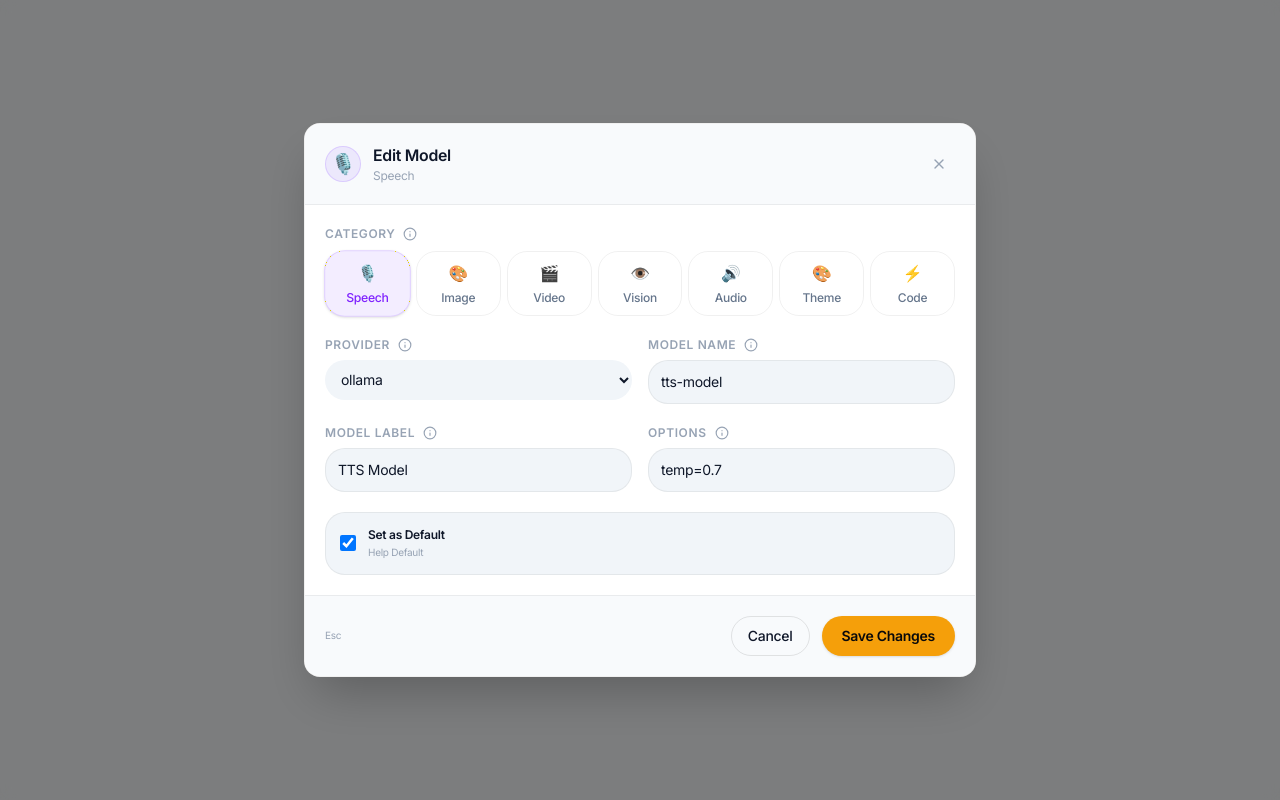
ModelDialog › shows tooltip text on hover
Expected: the text "Help Category" is not shown
// Trigger hover
Hover over the button named "Help" next to "Category" at [410, 234], box [402,225,420,243]
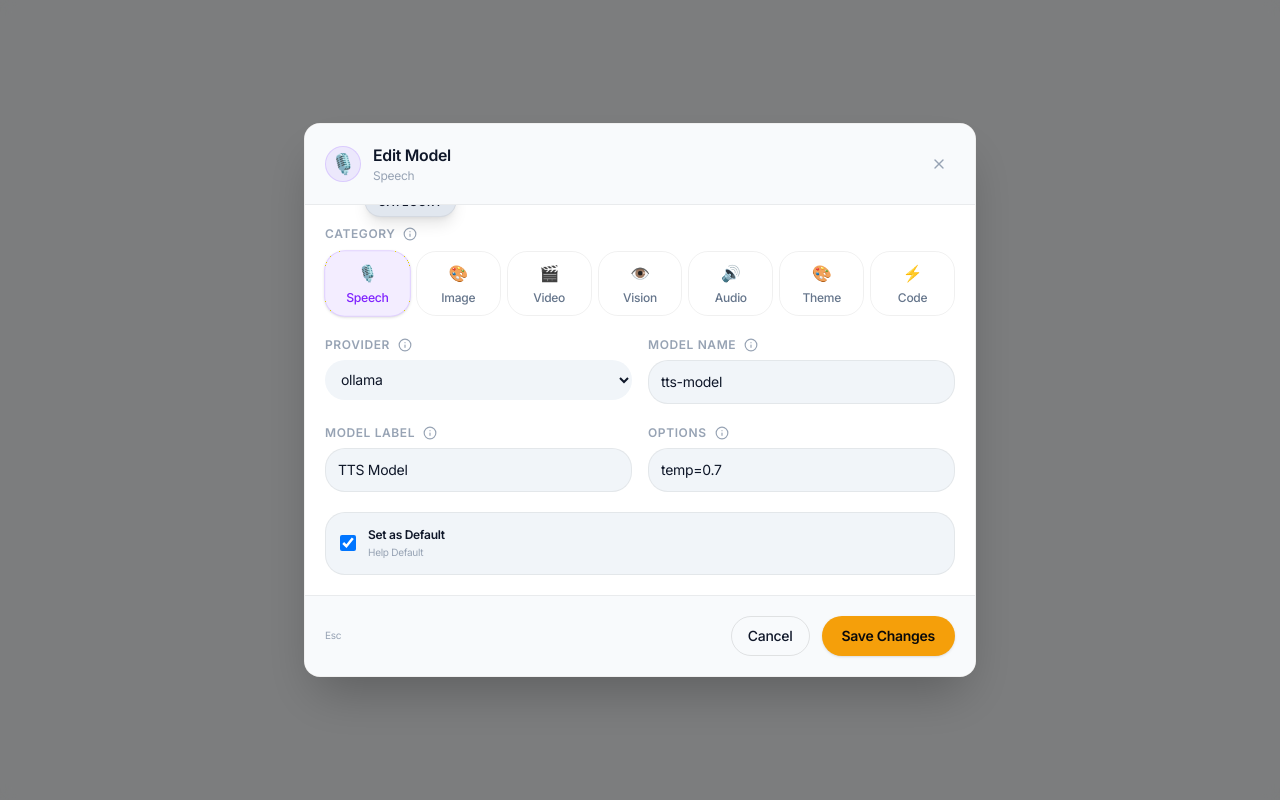
// Trigger leave
Move the pointer off the button named "Help" below "Help Category", box [402,225,420,243]
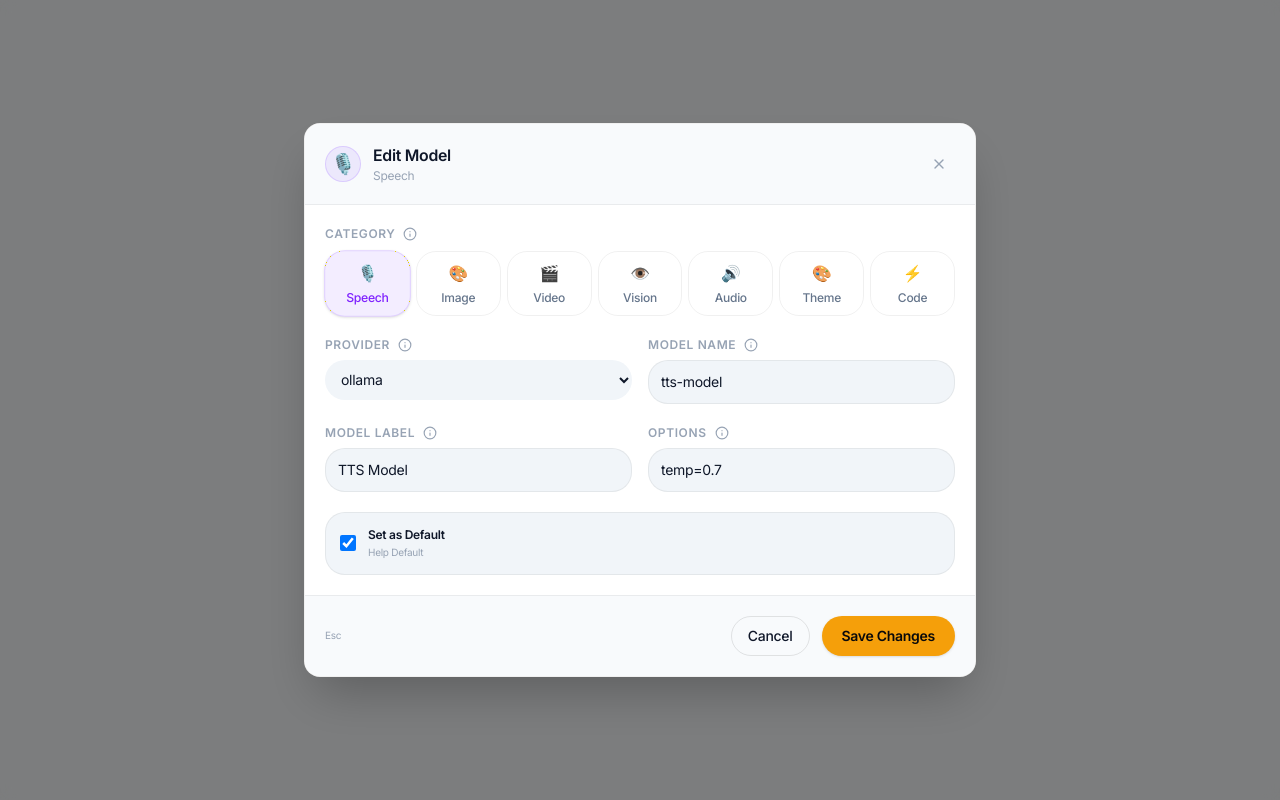
Result: the text "Help Category" is gone
// Trigger focus
Focus the button named "Help" next to "Category". click: [410, 234]
box: [402,225,420,243]
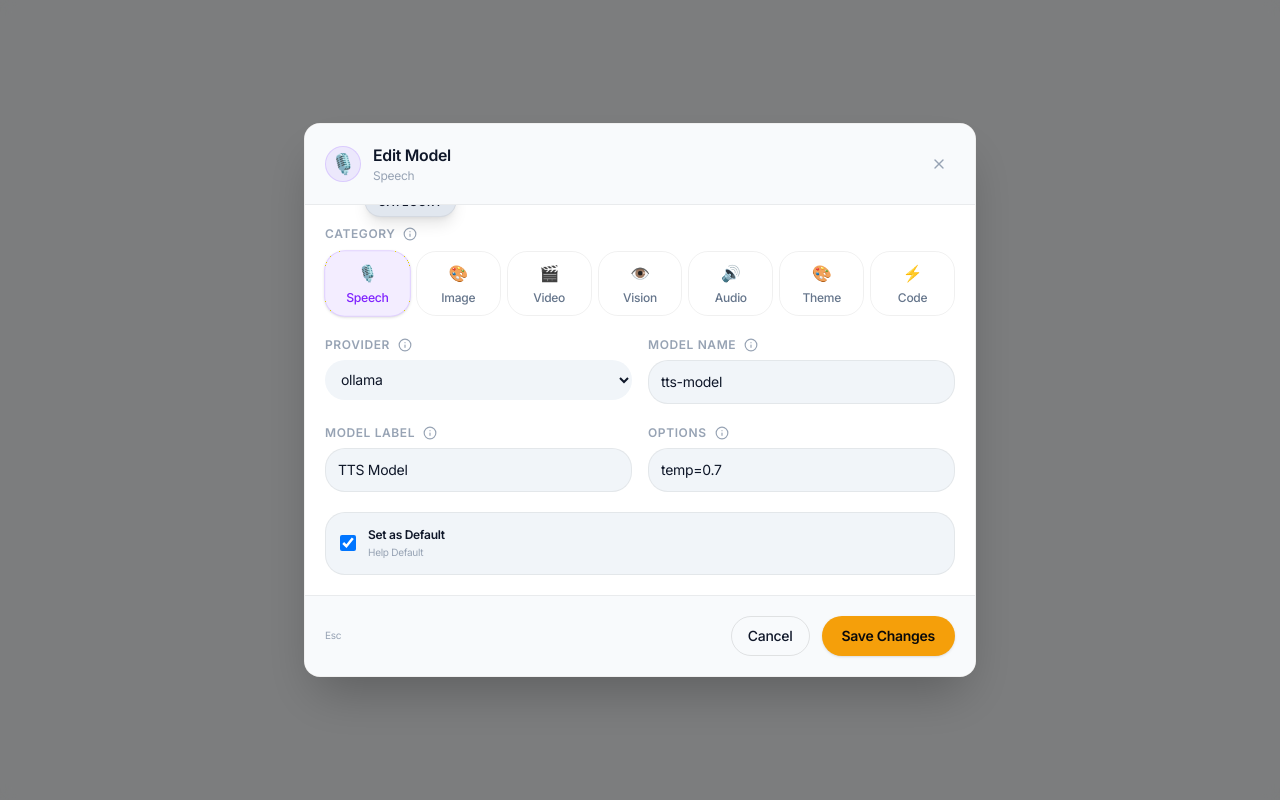
// Trigger blur
Leave the button named "Help" below "Help Category", box [402,225,420,243]
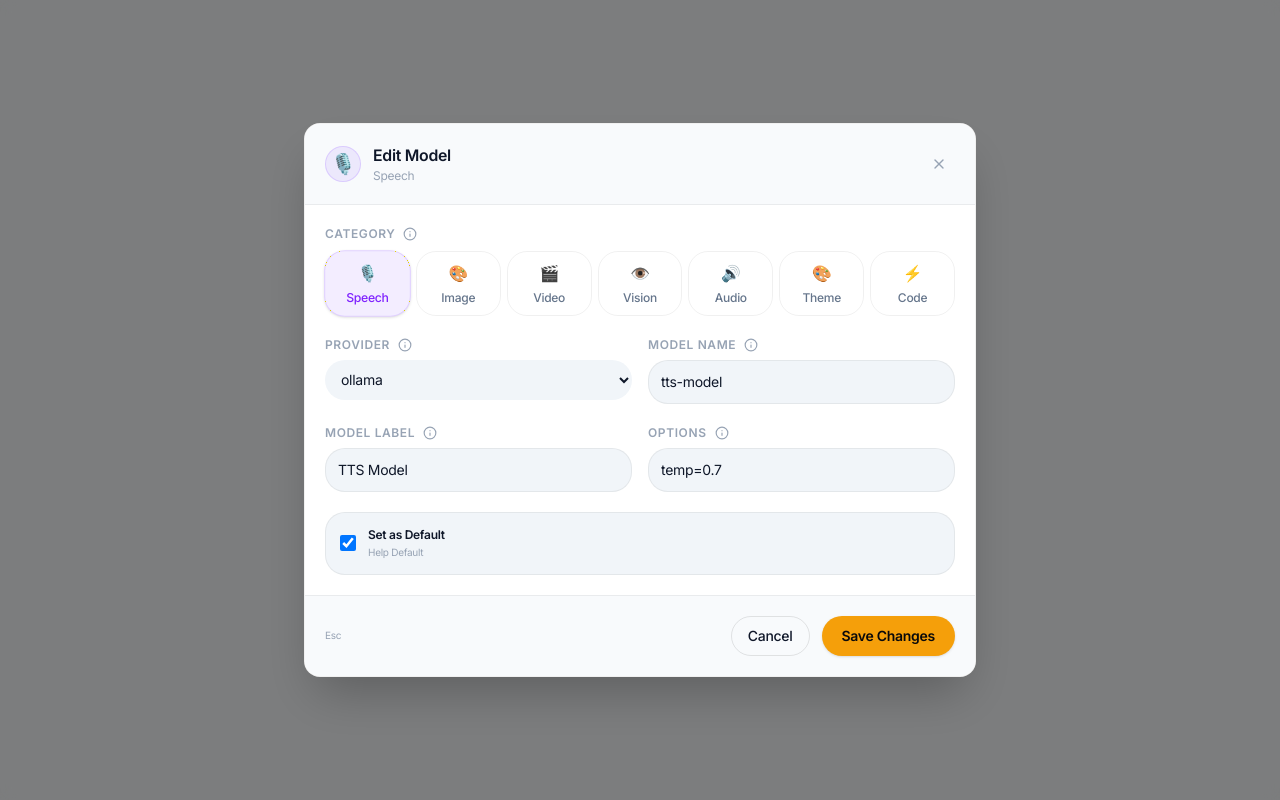
Result: the text "Help Category" is gone
